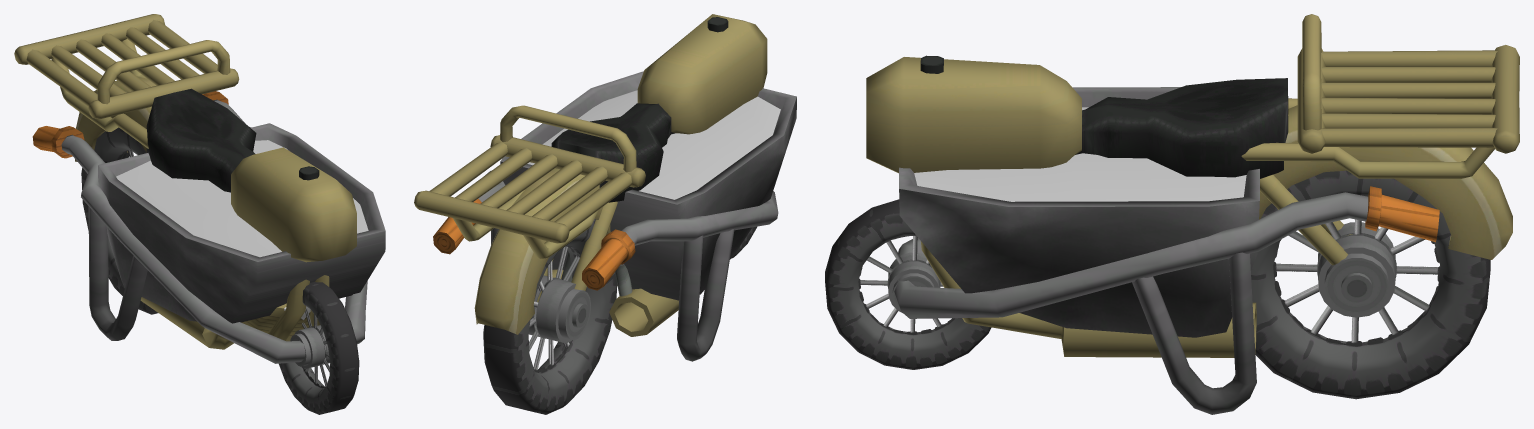
Rendered from WheelBarrow.fbx.
The picture shows the model from 3 angles, left to right: view 1: azimuth 30°, elevation 25°; view 2: azimuth 150°, elevation 25°; view 3: azimuth 270°, elevation 25°; orthographic projection. The views are drawn at different scales.
Parts seen in each view (by area): view 1: Bike, BikeHandleBar, Wheel (×2), DirtMesh; view 2: Bike, BikeHandleBar, Wheel, DirtMesh; view 3: Bike, BikeHandleBar, Wheel (×2), DirtMesh.
Part boxes in pixels (x1,y1,x2,y2): Bike: (14,14,356,349); BikeHandleBar: (32,91,385,363); Wheel (×2): (81,127,359,414); DirtMesh: (116,140,368,257); Bike: (414,14,767,336); BikeHandleBar: (433,71,796,361); Wheel: (483,219,617,414); DirtMesh: (527,90,780,199); Bike: (866,14,1519,357); BikeHandleBar: (894,87,1439,414); Wheel (×2): (825,170,1490,399); DirtMesh: (914,107,1246,201).
Bounding box in the file's own units: 1.53 × 1.85 × 3.35.
